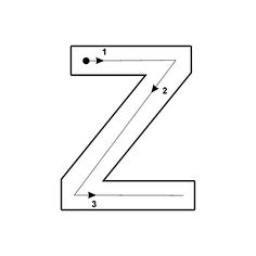z: (52, 39, 200, 215)
